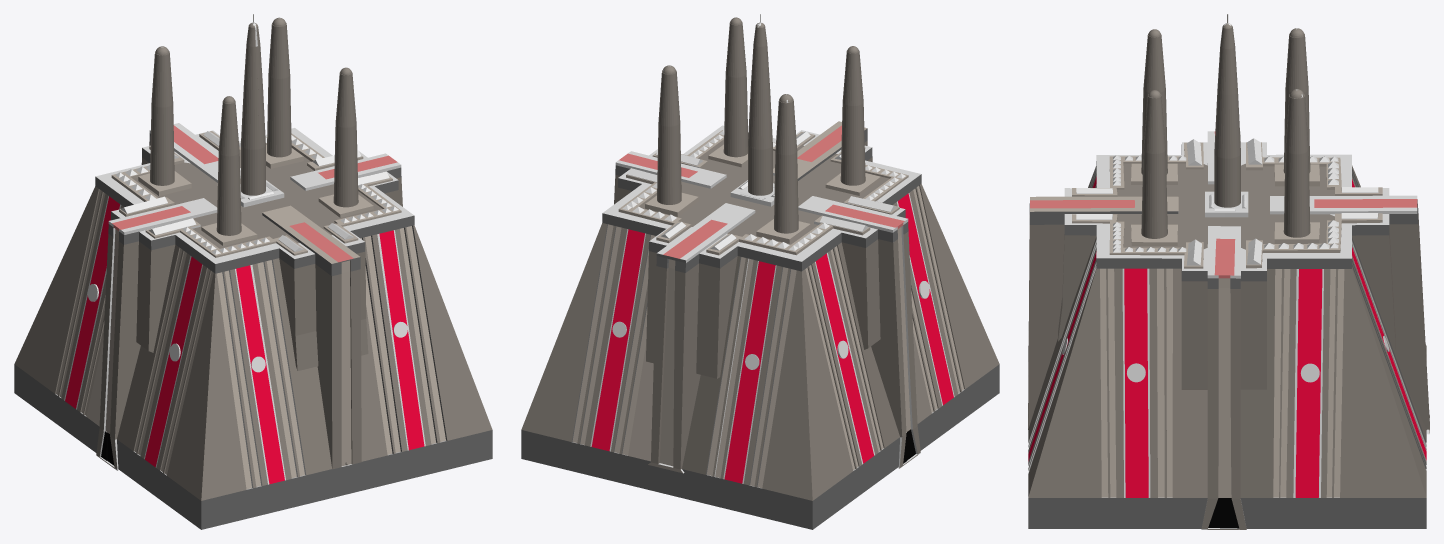
The model's file is Jedi_Tempel.fbx.
3 renders of one model, left to right at view 1: azimuth 30°, elevation 25°; view 2: azimuth 150°, elevation 25°; view 3: azimuth 270°, elevation 25°, orthographic. The views are drawn at different scales.
Visible parts, largest first — view 1: Cube; view 2: Cube; view 3: Cube.
Boxes of the visible parts, left/top/right/bottom form: Cube: left=14, top=14, right=492, bottom=529; Cube: left=521, top=14, right=999, bottom=529; Cube: left=1028, top=14, right=1429, bottom=529.
Size of the model in its own units: 11185 by 14854 by 12324.
